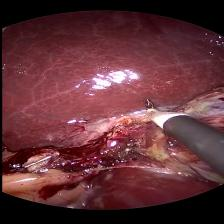Hook: (142, 97, 189, 128)
